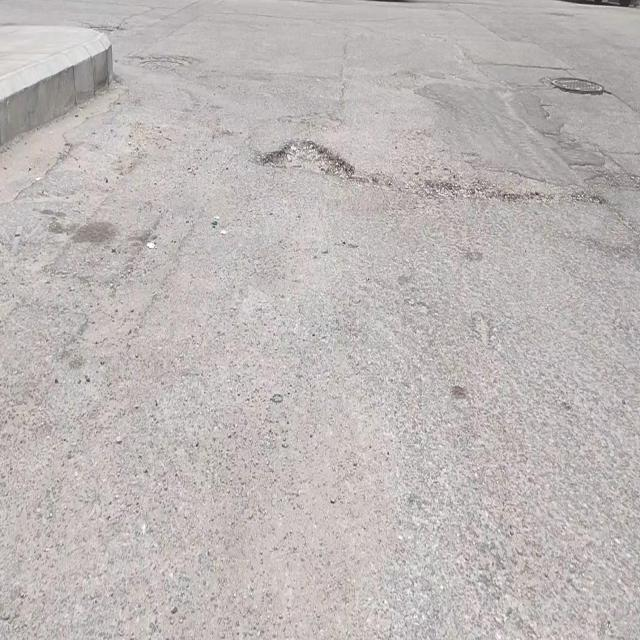Potholes: (258, 132, 355, 179)
